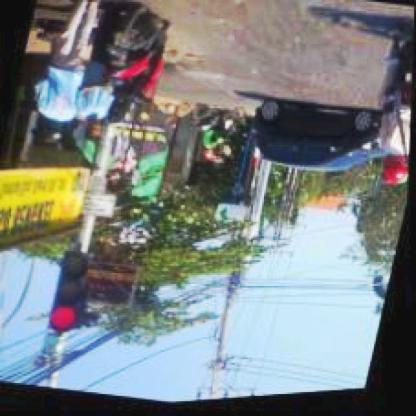Traffic Light -Red-: (48, 250, 94, 333)
